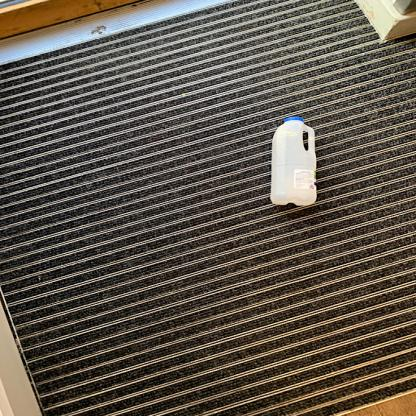trash: (265, 114, 320, 209)
